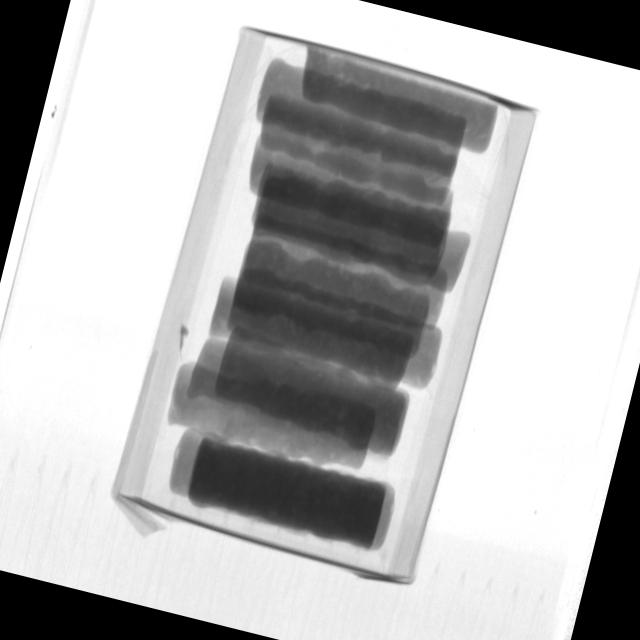ym: (172, 317, 194, 355)
